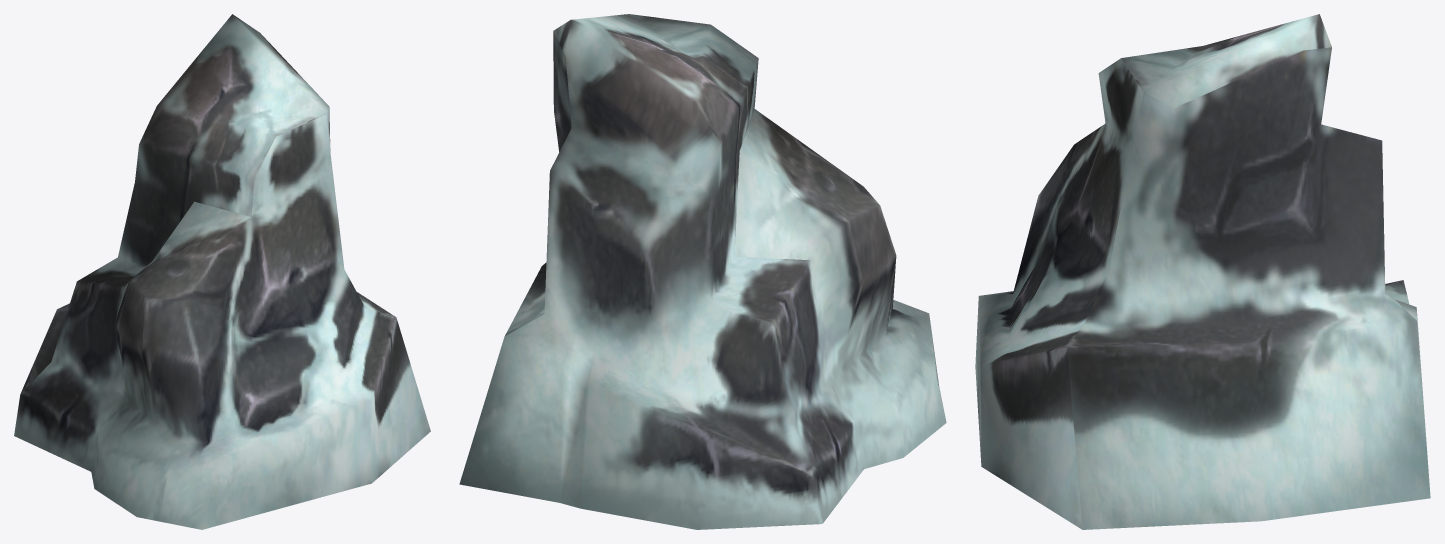
Rendered from xs_shanshi4.FBX.
3 renders of one model, left to right at view 1: azimuth 30°, elevation 25°; view 2: azimuth 150°, elevation 25°; view 3: azimuth 270°, elevation 25°, orthographic. The views are drawn at different scales.
Parts seen in each view (by area): view 1: Object10; view 2: Object10; view 3: Object10.
Part boxes in pixels (x1,y1,x2,y2): Object10: (14, 14, 430, 529); Object10: (459, 14, 946, 529); Object10: (975, 14, 1430, 529).
Size of the model in its own units: 48.67 by 54.51 by 49.34.
